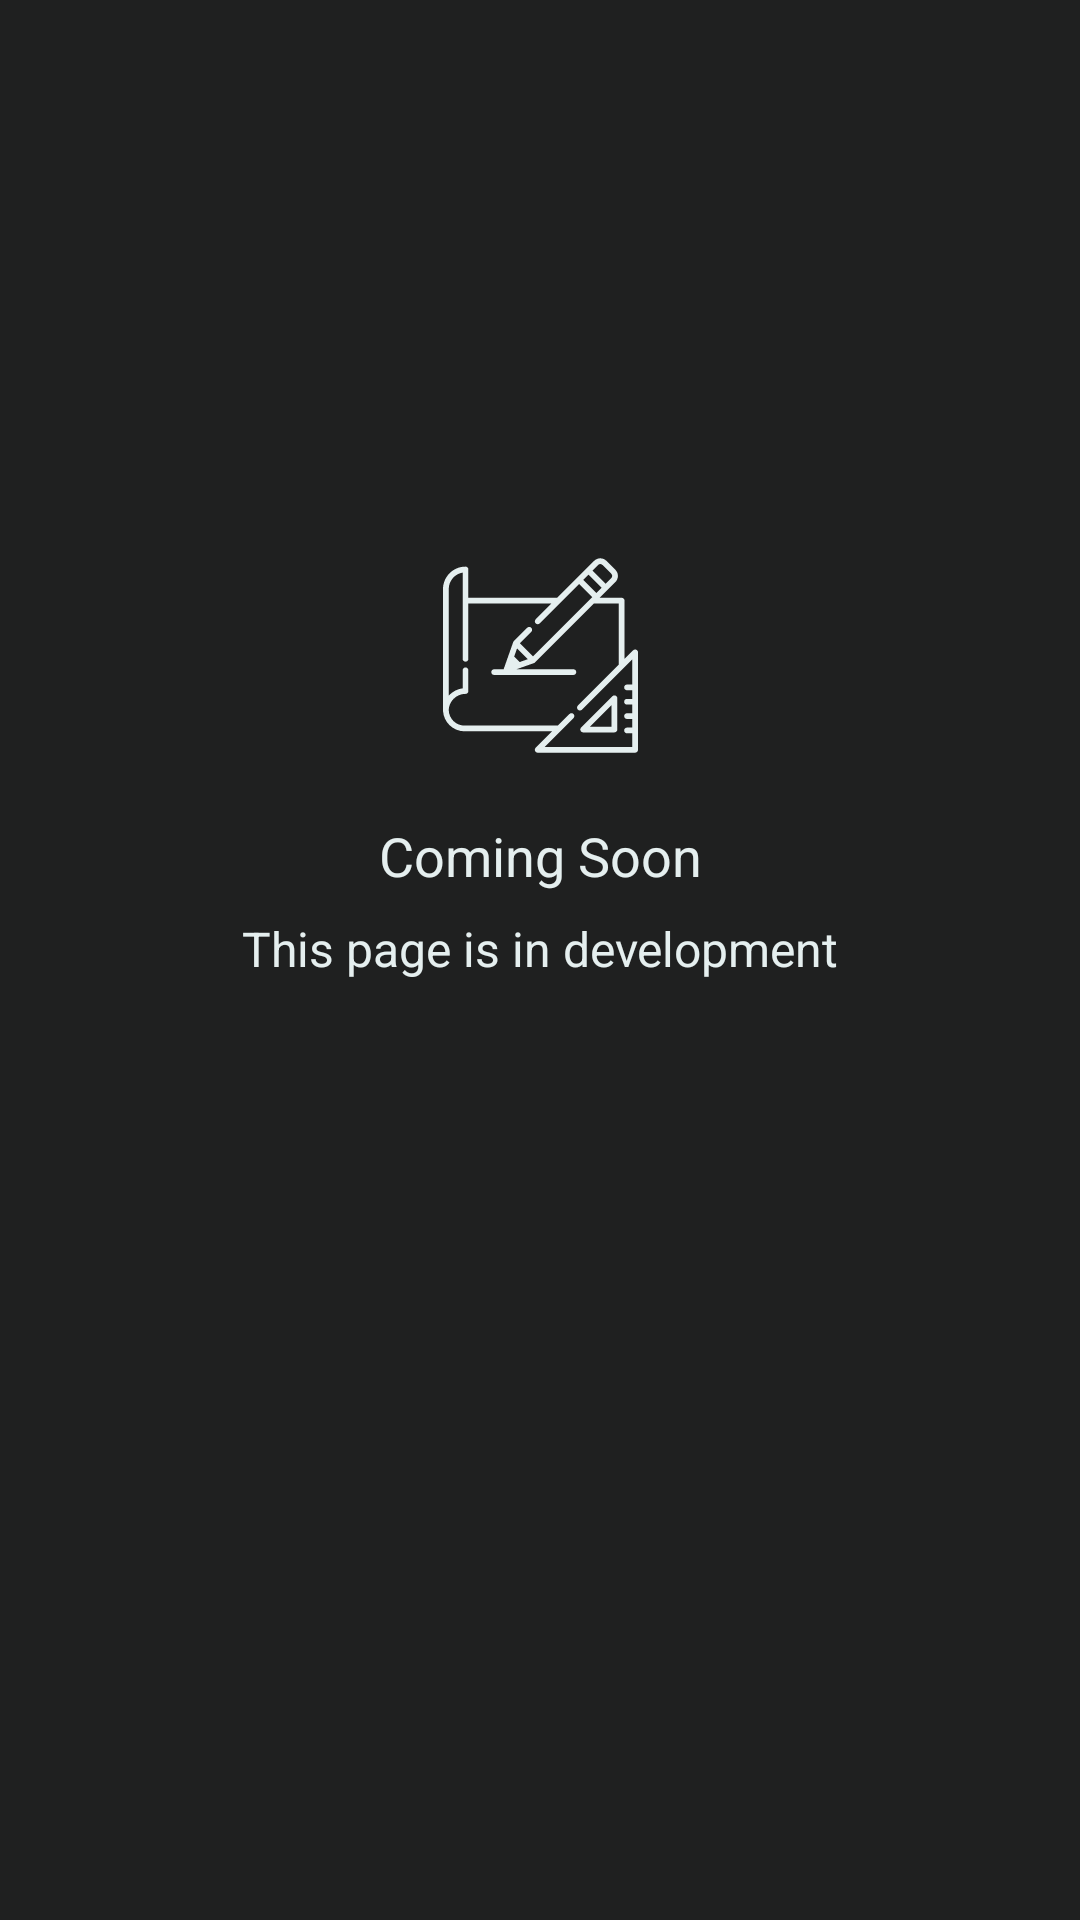

Named icons in this screenshot (1080*1920) and their bounding boxes, (x1, y1, x2, y2):
sketch: (443, 558, 638, 753)
